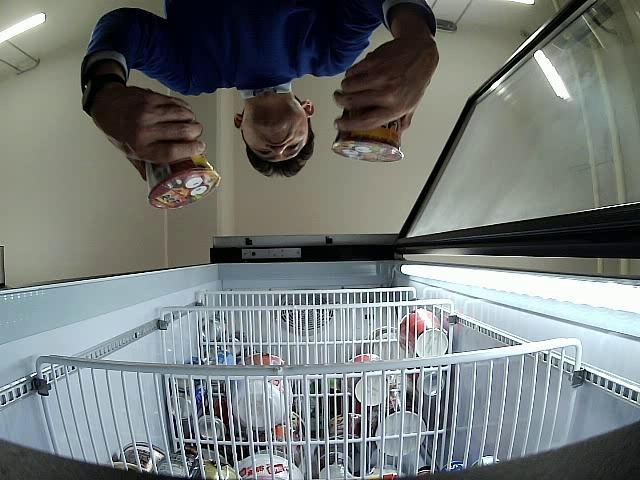06_nuguri_S: (144, 154, 222, 210), (332, 108, 403, 162)
